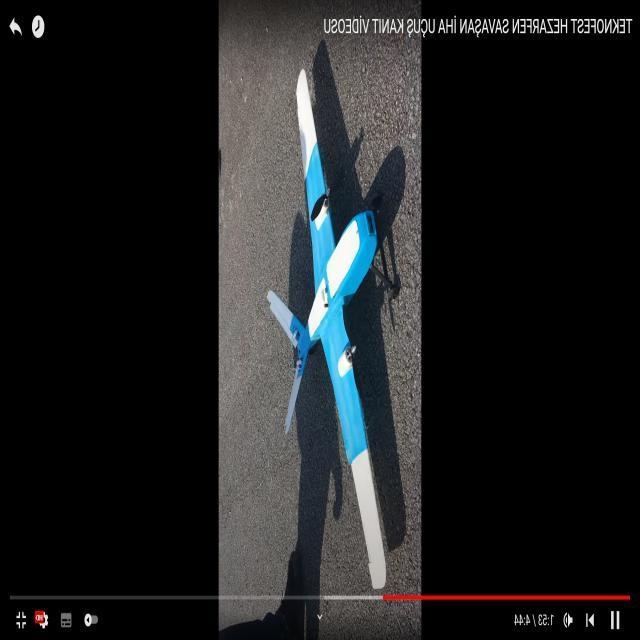UAV: (264, 46, 404, 546)
